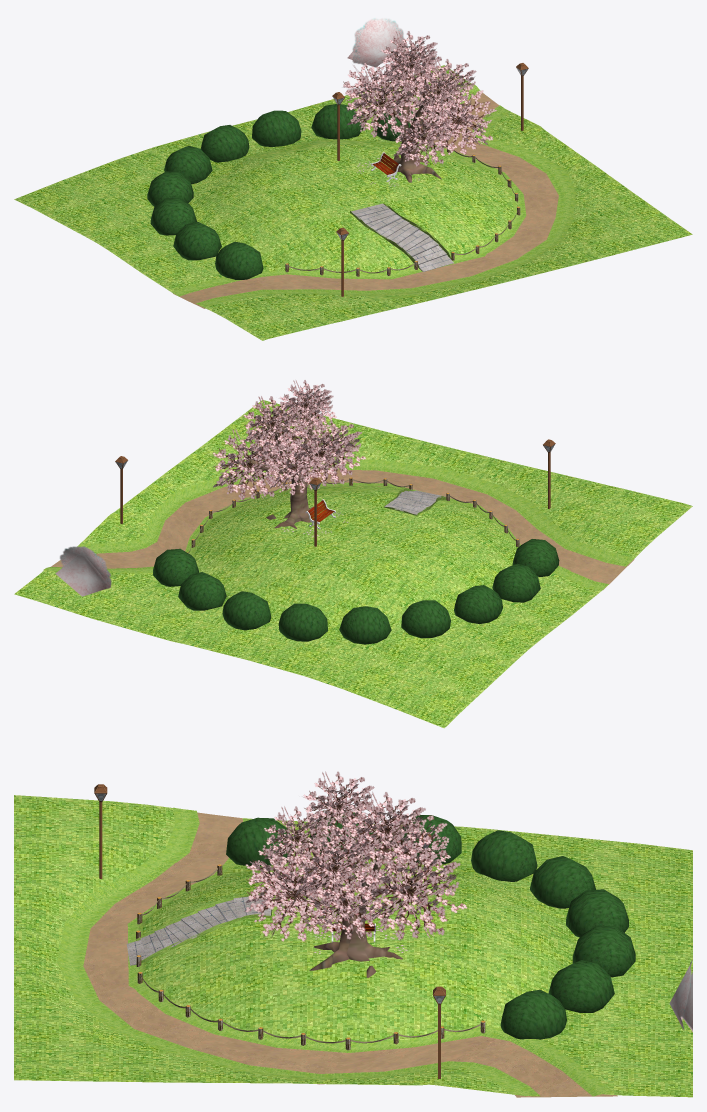
File: park-spring.glb
The picture shows the model from 3 angles, top to bottom: view 1: azimuth 30°, elevation 25°; view 2: azimuth 150°, elevation 25°; view 3: azimuth 270°, elevation 25°; orthographic projection. The views are drawn at different scales.
Visible parts, largest first — view 1: mtParkGround00t_mat, mtParkTreeLeaf00t_mat, mtParkBush00t_mat, mtParkGround01t_mat, mtParkGround03t_mat, mtParkGround02t_mat, mtParkTreePlane00t_mat, mtParkTreeTrunk00t_mat, mtParkLamp00t_mat, mtParkTreeTrunk01t_mat, mtParkGrass00t_mat; view 2: mtParkGround00t_mat, mtParkBush00t_mat, mtParkTreeLeaf00t_mat, mtParkGround01t_mat, mtParkGround03t_mat, mtParkTreePlane00t_mat, mtParkTreeTrunk00t_mat, mtParkLamp00t_mat, mtParkGround02t_mat; view 3: mtParkGround00t_mat, mtParkTreeLeaf00t_mat, mtParkGround01t_mat, mtParkBush00t_mat, mtParkGround03t_mat, mtParkGround02t_mat, mtParkTreeTrunk00t_mat, mtParkTreeTrunk01t_mat, mtParkLamp00t_mat, mtParkGrass00t_mat, mtParkTreePlane00t_mat, mtParkRope00t_mat.
Boxes of the visible parts, x1,y1,x2,y2 form: mtParkGround00t_mat: (14,65,692,340); mtParkTreeLeaf00t_mat: (343,31,496,166); mtParkBush00t_mat: (147,104,419,279); mtParkGround01t_mat: (173,92,558,308); mtParkGround03t_mat: (171,85,576,307); mtParkGround02t_mat: (351,203,453,271); mtParkTreePlane00t_mat: (347,18,403,67); mtParkTreeTrunk00t_mat: (375,49,441,182); mtParkLamp00t_mat: (332,63,528,296); mtParkTreeTrunk01t_mat: (285,144,520,276); mtParkGrass00t_mat: (350,203,451,268); mtParkGround00t_mat: (14,400,692,728); mtParkBush00t_mat: (153,539,559,644); mtParkTreeLeaf00t_mat: (212,380,365,500); mtParkGround01t_mat: (51,469,634,589); mtParkGround03t_mat: (43,459,634,590); mtParkTreePlane00t_mat: (55,546,111,596); mtParkTreeTrunk00t_mat: (244,402,337,528); mtParkLamp00t_mat: (115,439,555,546); mtParkGround02t_mat: (384,490,445,514); mtParkGround00t_mat: (14,795,692,1097); mtParkTreeLeaf00t_mat: (243,771,467,941); mtParkGround01t_mat: (83,812,617,1097); mtParkBush00t_mat: (226,810,635,1039); mtParkGround03t_mat: (57,807,614,1096); mtParkGround02t_mat: (126,894,271,965); mtParkTreeTrunk00t_mat: (280,823,425,977); mtParkTreeTrunk01t_mat: (136,864,485,1050); mtParkLamp00t_mat: (94,784,445,1078); mtParkGrass00t_mat: (135,893,272,964); mtParkTreePlane00t_mat: (669,960,692,1031); mtParkRope00t_mat: (138,868,480,1043).
Bounding box in the file's own units: 28 × 11.57 × 28.
15 materials, 14 textured.
